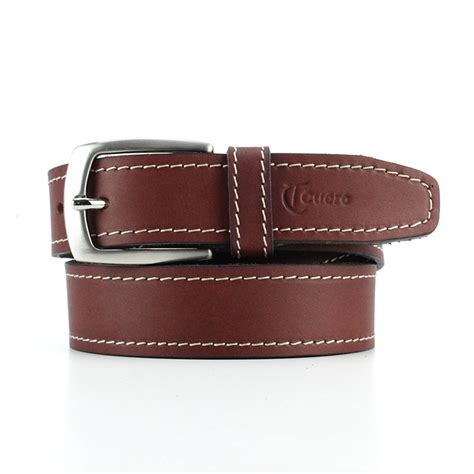cuero: (47, 145, 442, 361)
